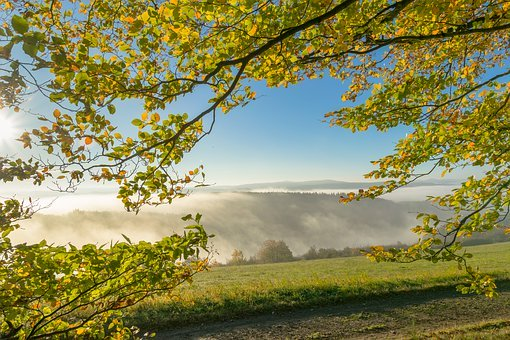field: (204, 247, 509, 336)
tree: (88, 3, 507, 202), (9, 234, 190, 340)
